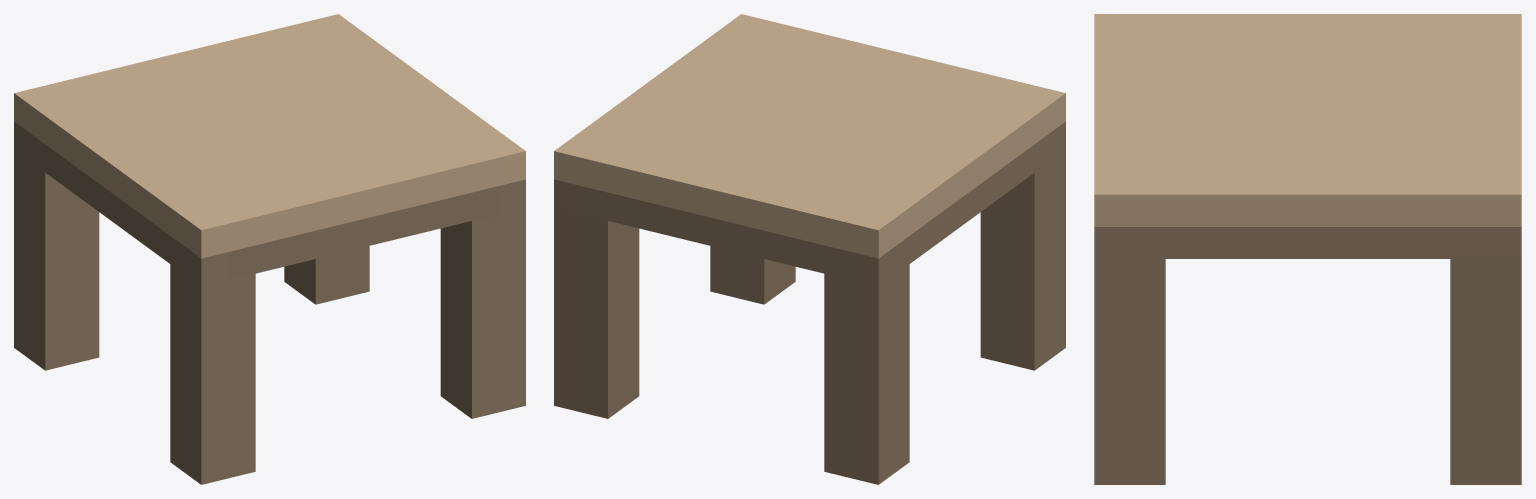
Rendered from mesa_cocina_taberna_desgastada_01.glb.
3 views of the same model, side by side, from view 1: azimuth 30°, elevation 25°; view 2: azimuth 150°, elevation 25°; view 3: azimuth 270°, elevation 25° (orthographic). The views are drawn at different scales.
Visible parts, largest first — view 1: mesa_cocina_taberna_desgastada; view 2: mesa_cocina_taberna_desgastada; view 3: mesa_cocina_taberna_desgastada.
Boxes of the visible parts, x1,y1,x2,y2 form: mesa_cocina_taberna_desgastada: (14,14,525,484); mesa_cocina_taberna_desgastada: (554,14,1065,484); mesa_cocina_taberna_desgastada: (1094,14,1521,484).
Bounding box in the file's own units: 1 × 0.75 × 1.
